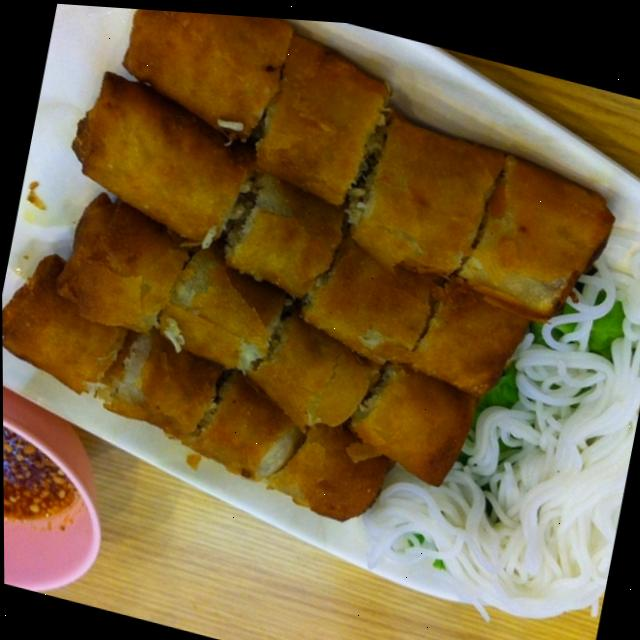炸货点心: (0, 0, 618, 553)
